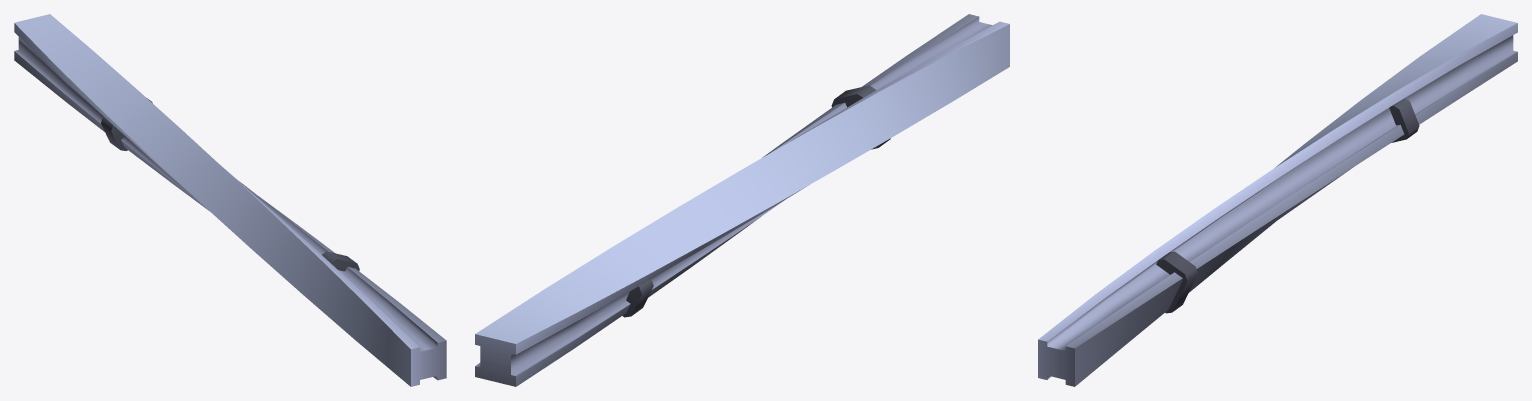
Rendered from coaster-monorail-straight-skew-right-side.glb.
3 renders of one model, left to right at view 1: azimuth 30°, elevation 25°; view 2: azimuth 150°, elevation 25°; view 3: azimuth 330°, elevation 25°, orthographic. The views are drawn at different scales.
Parts seen in each view (by area): view 1: coaster-monorail-straight-skew-right-side; view 2: coaster-monorail-straight-skew-right-side; view 3: coaster-monorail-straight-skew-right-side.
Part boxes in pixels (bbox=[...]): coaster-monorail-straight-skew-right-side: bbox=[14, 14, 446, 386]; coaster-monorail-straight-skew-right-side: bbox=[475, 14, 1009, 386]; coaster-monorail-straight-skew-right-side: bbox=[1038, 14, 1517, 386].
Size of the model in its own units: 0.3369 by 0.3369 by 4.
Materials: 1 (1 with a texture image).
